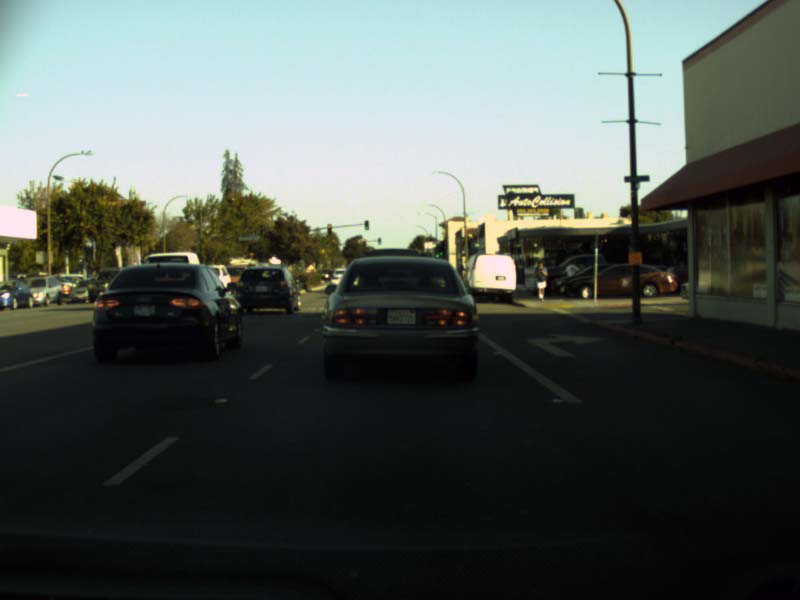Green: (438, 246, 443, 256), (434, 247, 438, 257), (364, 220, 368, 229)
Red: (327, 224, 331, 233)
